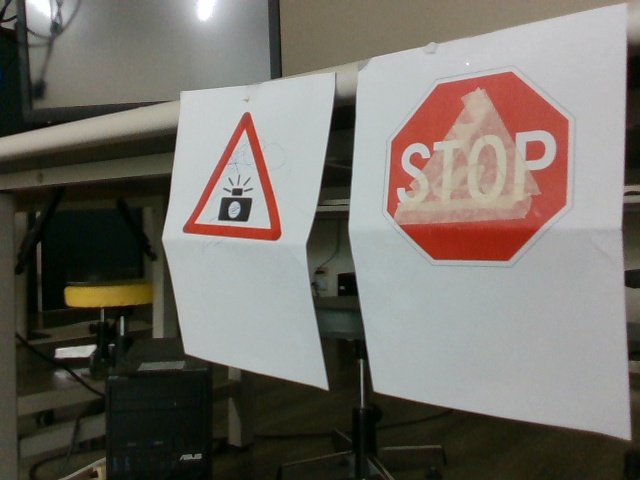camera: (181, 112, 280, 240)
stop: (385, 69, 575, 263)
